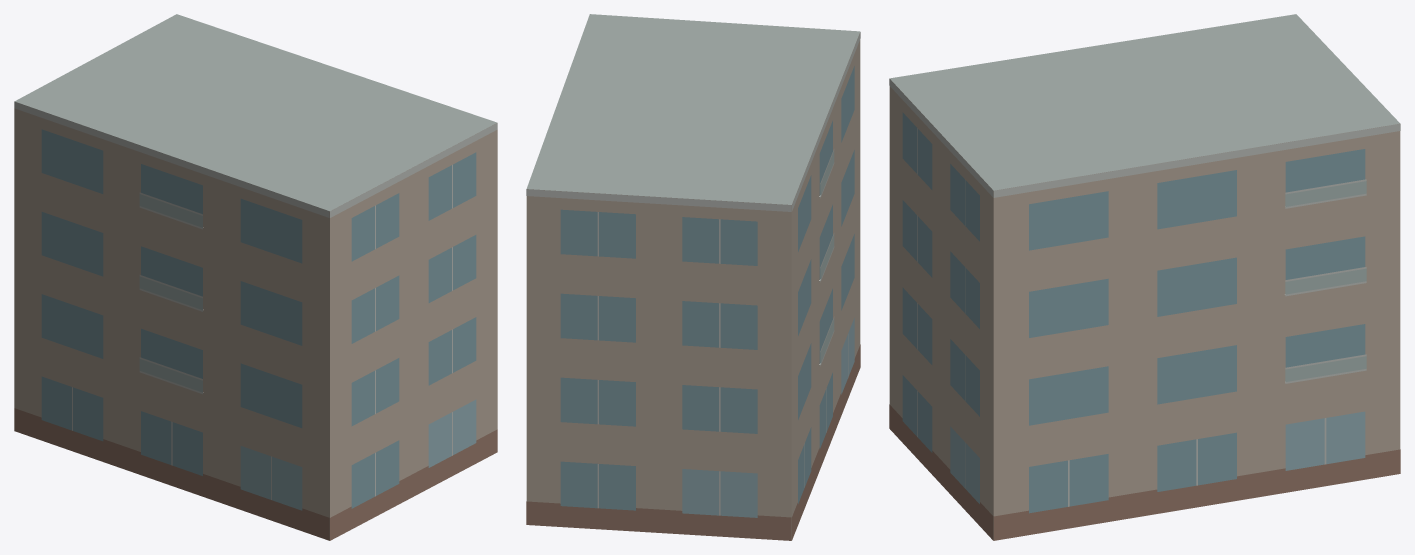
File: survey-upis-32843220.glb
3 renders of one model, left to right at view 1: azimuth 30°, elevation 25°; view 2: azimuth 150°, elevation 25°; view 3: azimuth 270°, elevation 25°, orthographic. The views are drawn at different scales.
Visible parts, largest first — view 1: survey-upis-32843220.tmp; view 2: survey-upis-32843220.tmp; view 3: survey-upis-32843220.tmp.
Boxes of the visible parts, x1,y1,x2,y2 form: survey-upis-32843220.tmp: (14, 14, 497, 540); survey-upis-32843220.tmp: (526, 14, 860, 540); survey-upis-32843220.tmp: (889, 14, 1400, 540).
Bounding box in the file's own units: 12.61 × 11.65 × 15.42.
